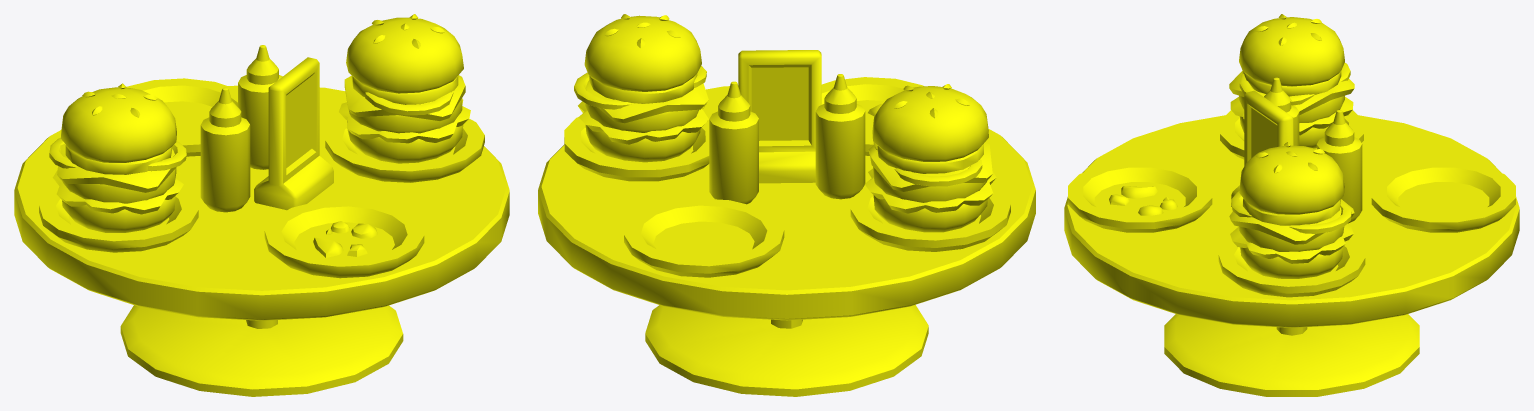
File: table_round_A_decorated.gltf
The picture shows the model from 3 angles, left to right: view 1: azimuth 30°, elevation 25°; view 2: azimuth 150°, elevation 25°; view 3: azimuth 270°, elevation 25°; orthographic projection. The views are drawn at different scales.
Visible parts, largest first — view 1: table_round_A_decorated; view 2: table_round_A_decorated; view 3: table_round_A_decorated.
Part boxes in pixels (left/top/right/bottom): table_round_A_decorated: left=14, top=14, right=509, bottom=396; table_round_A_decorated: left=538, top=14, right=1035, bottom=396; table_round_A_decorated: left=1064, top=14, right=1519, bottom=396.
Bounding box in the file's own units: 3 × 1.86 × 3.
Materials: 1 (1 with a texture image).
